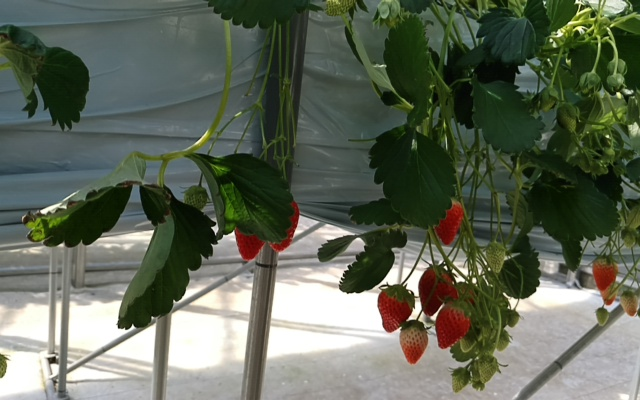GreenStrawberry: (400, 318, 430, 365), (458, 319, 486, 355), (182, 184, 207, 212), (484, 242, 505, 274), (478, 355, 500, 384), (556, 103, 577, 133), (449, 366, 471, 393), (620, 290, 638, 317), (539, 87, 558, 112), (493, 329, 510, 352), (621, 228, 636, 249), (594, 307, 609, 327), (507, 309, 520, 327)
MatureStrawberry: (262, 179, 300, 252), (375, 282, 415, 333), (436, 301, 476, 351), (419, 263, 454, 318), (433, 195, 465, 247), (590, 254, 620, 306)
